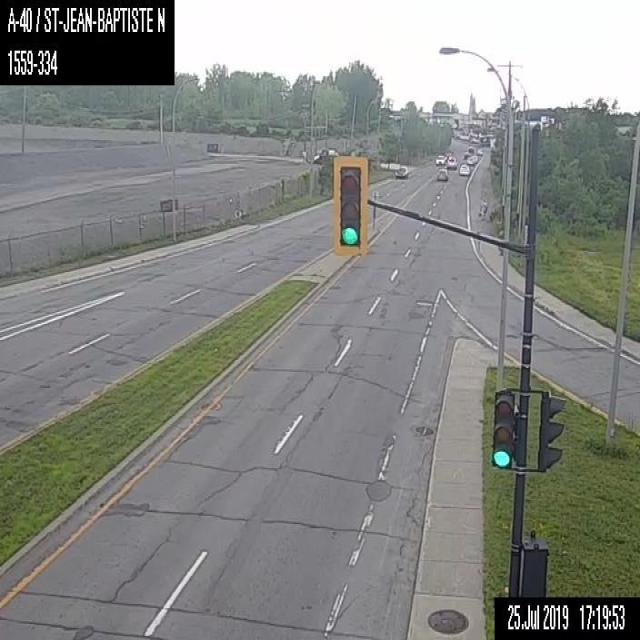vehicle: (394, 165, 408, 178), (436, 167, 447, 180), (446, 156, 457, 168), (458, 164, 469, 174), (436, 154, 445, 164), (466, 156, 474, 164), (471, 154, 478, 162), (477, 147, 482, 154)
